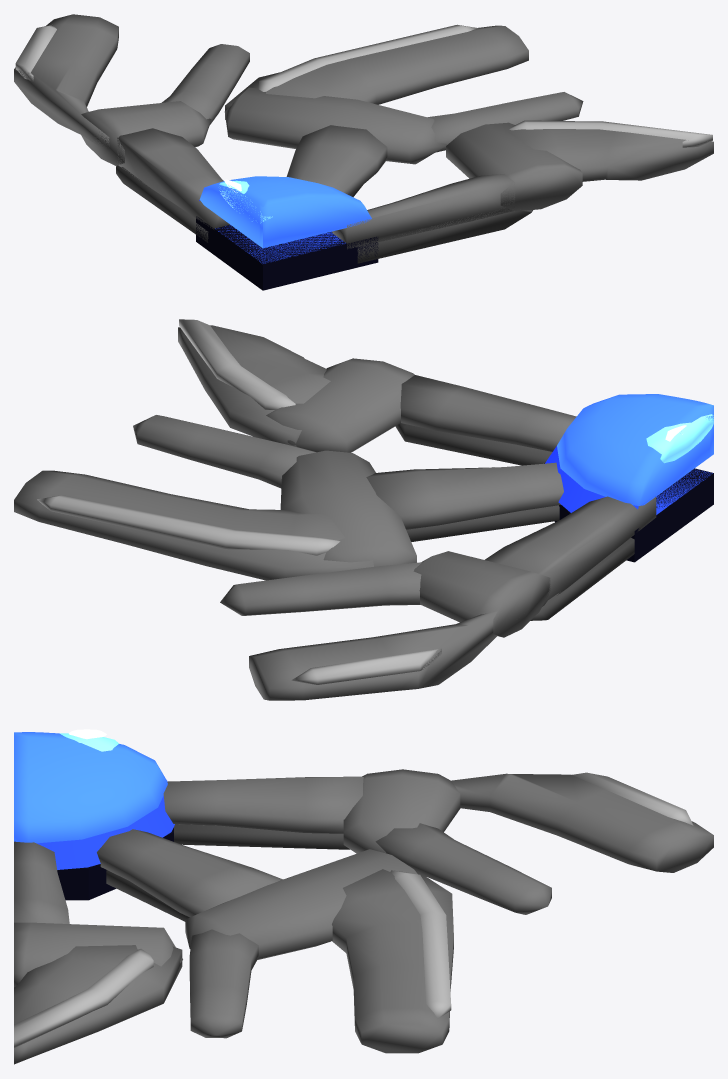
The model's file is newsh-hash-159.glb.
3 renders of one model, top to bottom at view 1: azimuth 30°, elevation 25°; view 2: azimuth 150°, elevation 25°; view 3: azimuth 270°, elevation 25°, orthographic. The views are drawn at different scales.
Visible parts, largest first — view 1: newsh-hash-159; view 2: newsh-hash-159; view 3: newsh-hash-159.
Boxes of the visible parts, x1,y1,x2,y2 form: newsh-hash-159: (14,14,713,290); newsh-hash-159: (14,319,713,700); newsh-hash-159: (14,729,713,1064).
Bounding box in the file's own units: 1.79 × 0.3254 × 2.
